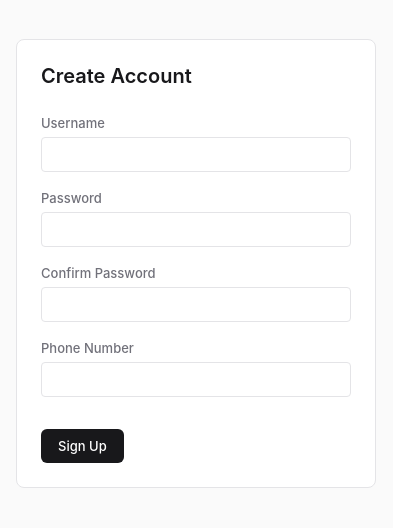
Test: SignupComponent › shows a server error message when registration fails (e.g. duplicate username)
This screenshot has width=393, height=528.
In the field below "Username": (196, 154) [41,136,351,172], type "newuser"
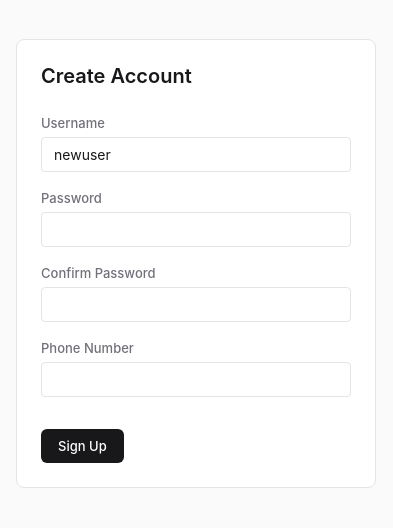
In the 1st password field: (196, 229) [41,212,351,246], type "SecurePass123!"
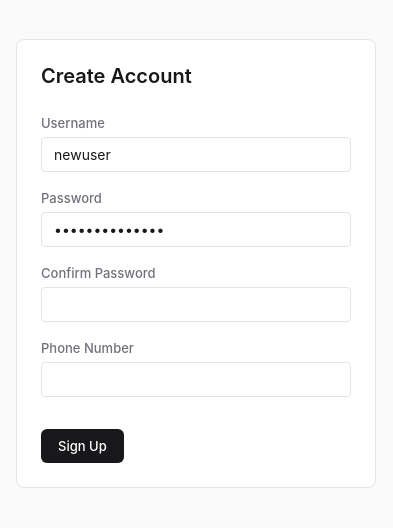
In the password field below "Confirm Password": (196, 304) [41,286,351,322], type "SecurePass123!"
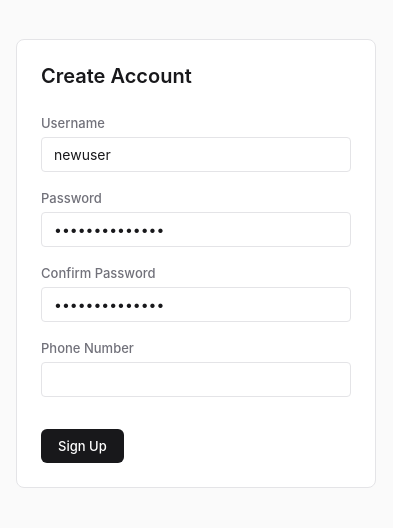
In the field below "Phone Number": (196, 379) [41,362,351,396], type "+15551234567"
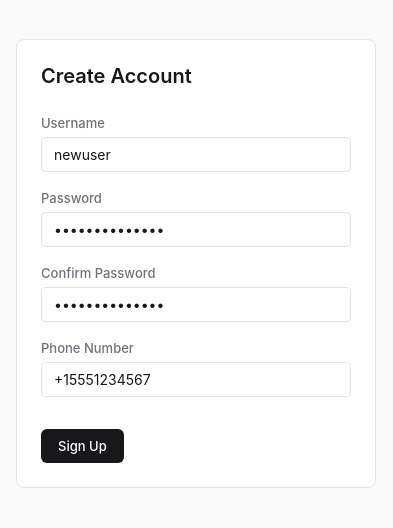
Submit the form, box [41,112,351,462]
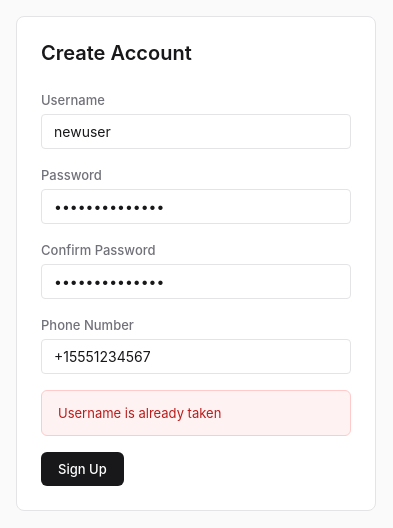
expect the text "already taken" is shown: met, box [58,404,221,420]
